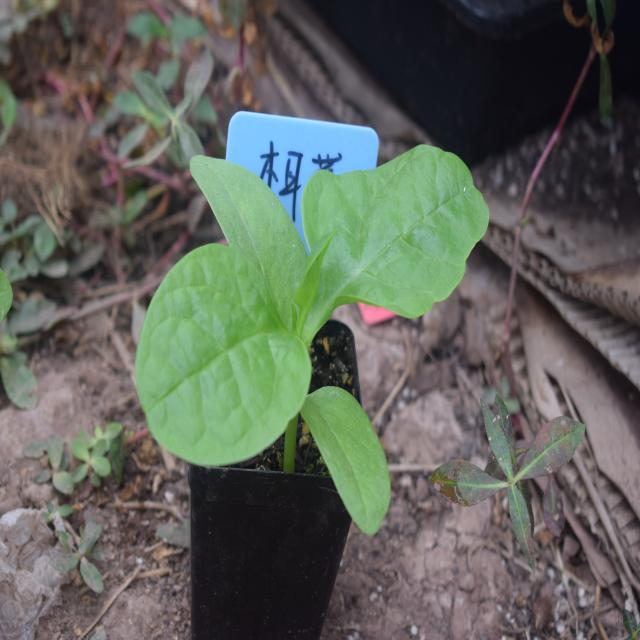Ceylon spinach: (118, 125, 470, 537)
